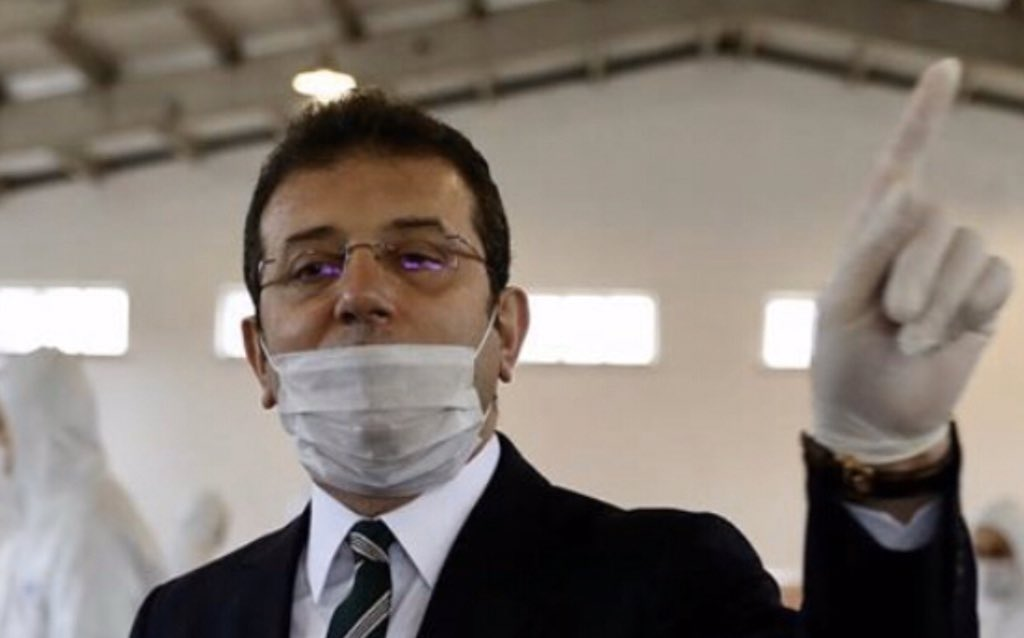with_incorrect_mask: (246, 156, 523, 473)
